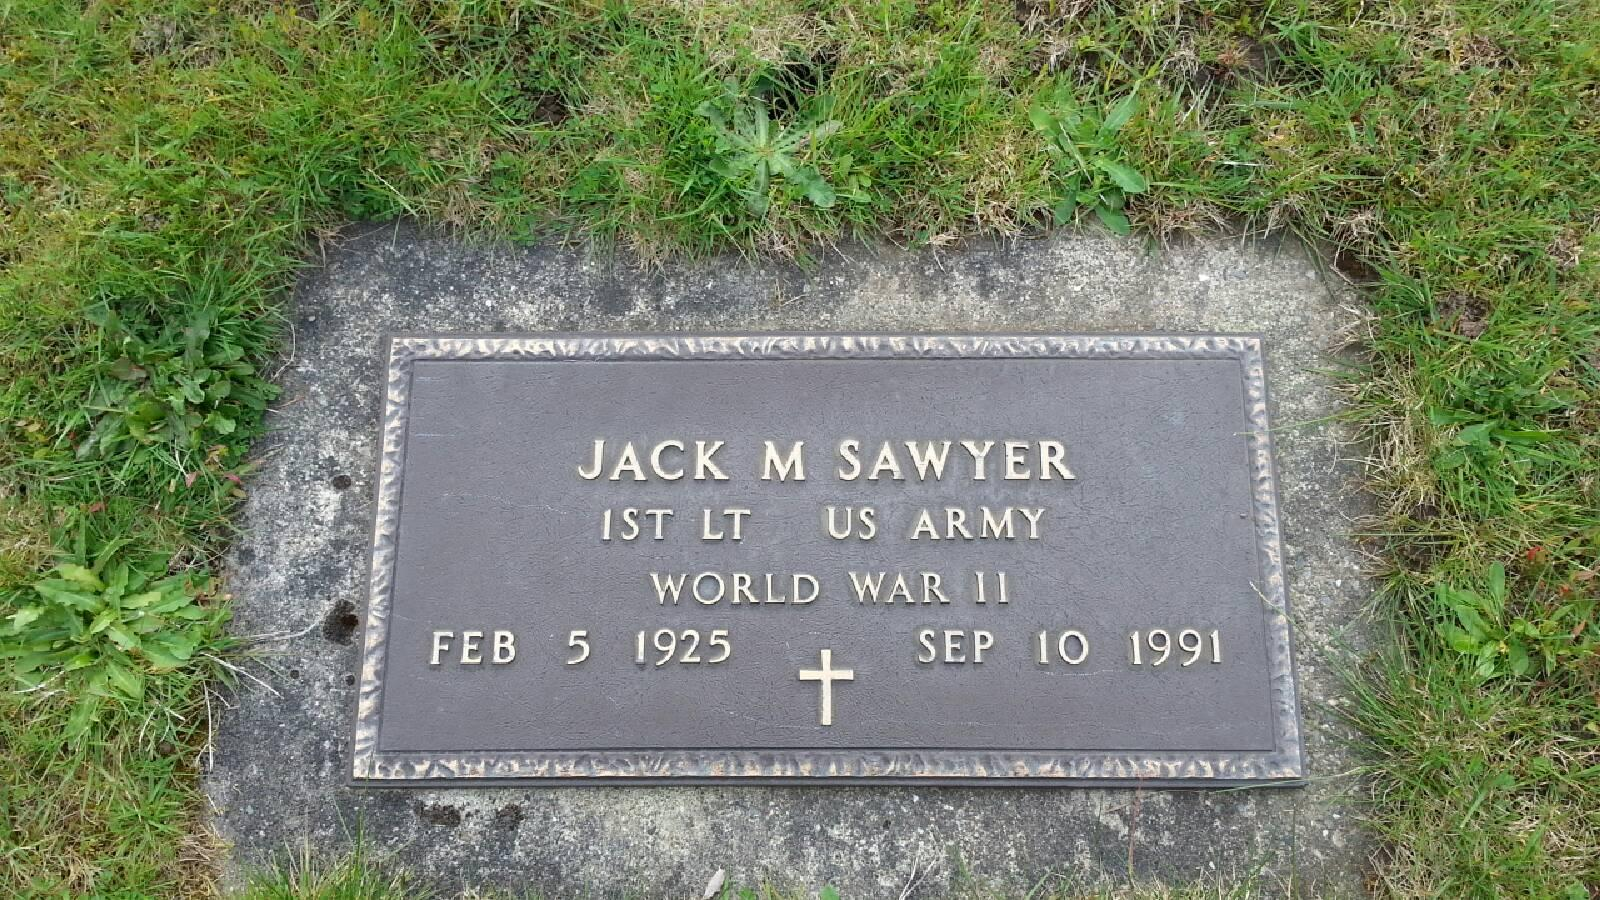flat: (205, 201, 1384, 899)
